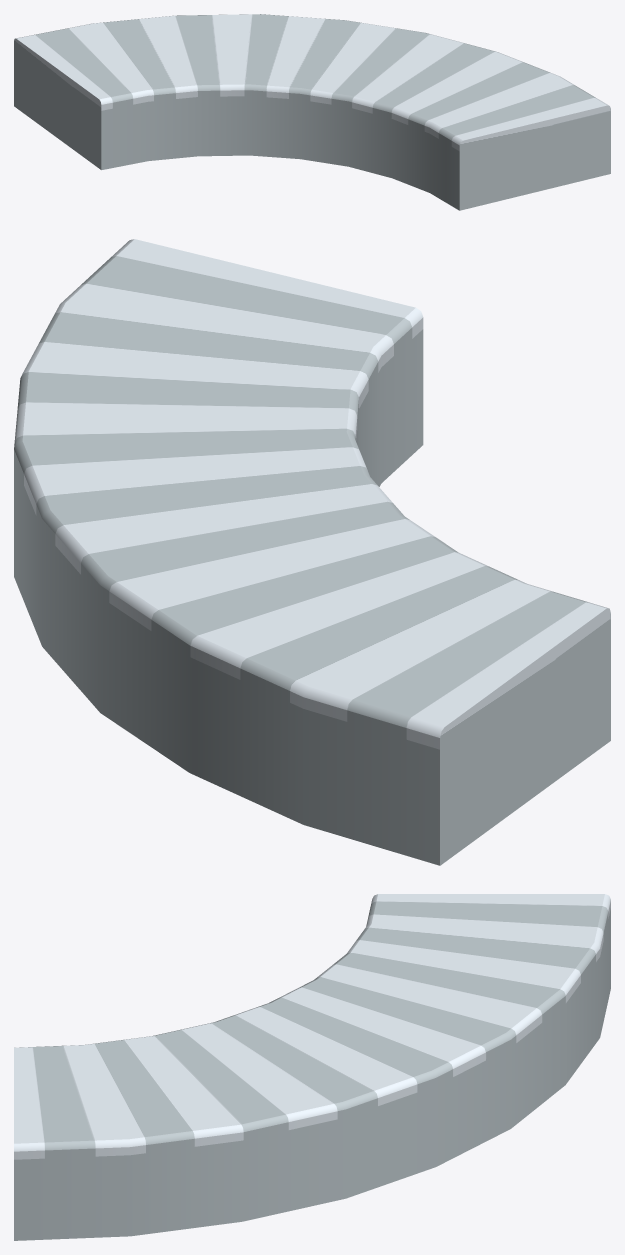
The model's file is Turn 90 large.fbx.
3 renders of one model, top to bottom at view 1: azimuth 30°, elevation 25°; view 2: azimuth 150°, elevation 25°; view 3: azimuth 270°, elevation 25°, orthographic. The views are drawn at different scales.
Visible parts, largest first — view 1: Turn_90_large_Cap, Turn_90_large; view 2: Turn_90_large_Cap, Turn_90_large; view 3: Turn_90_large_Cap, Turn_90_large.
Part boxes in pixels (x1,y1,x2,y2): Turn_90_large_Cap: (14, 14, 610, 151); Turn_90_large: (14, 47, 610, 210); Turn_90_large_Cap: (14, 239, 610, 749); Turn_90_large: (14, 329, 610, 865); Turn_90_large_Cap: (14, 894, 610, 1159); Turn_90_large: (14, 908, 610, 1240).
Size of the model in its own units: 2000 by 350 by 2000.
